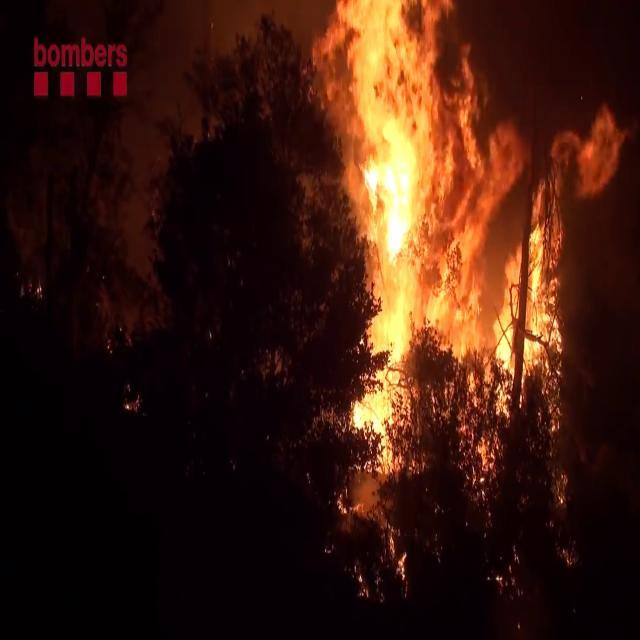Fire: (302, 0, 606, 451)
